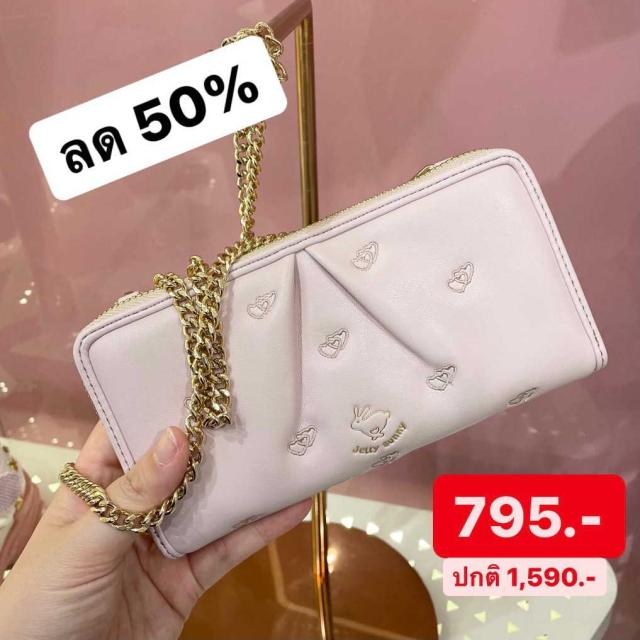Handbag: (49, 140, 640, 562)
